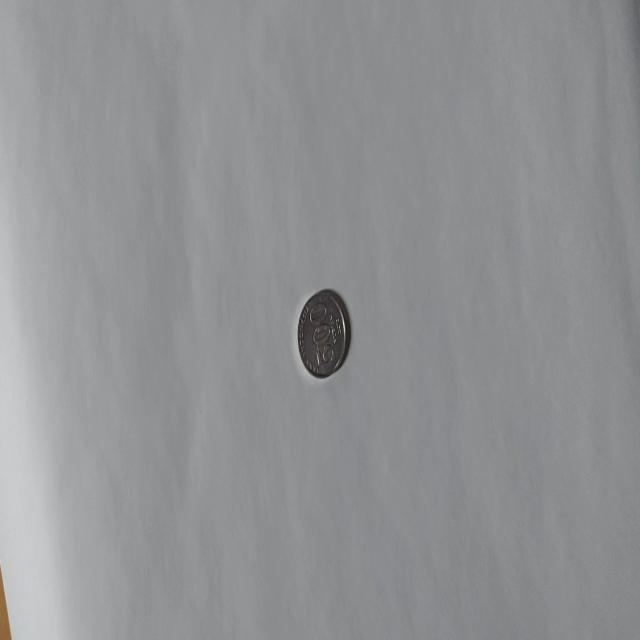lima ratus rupiah: (296, 287, 348, 379)
